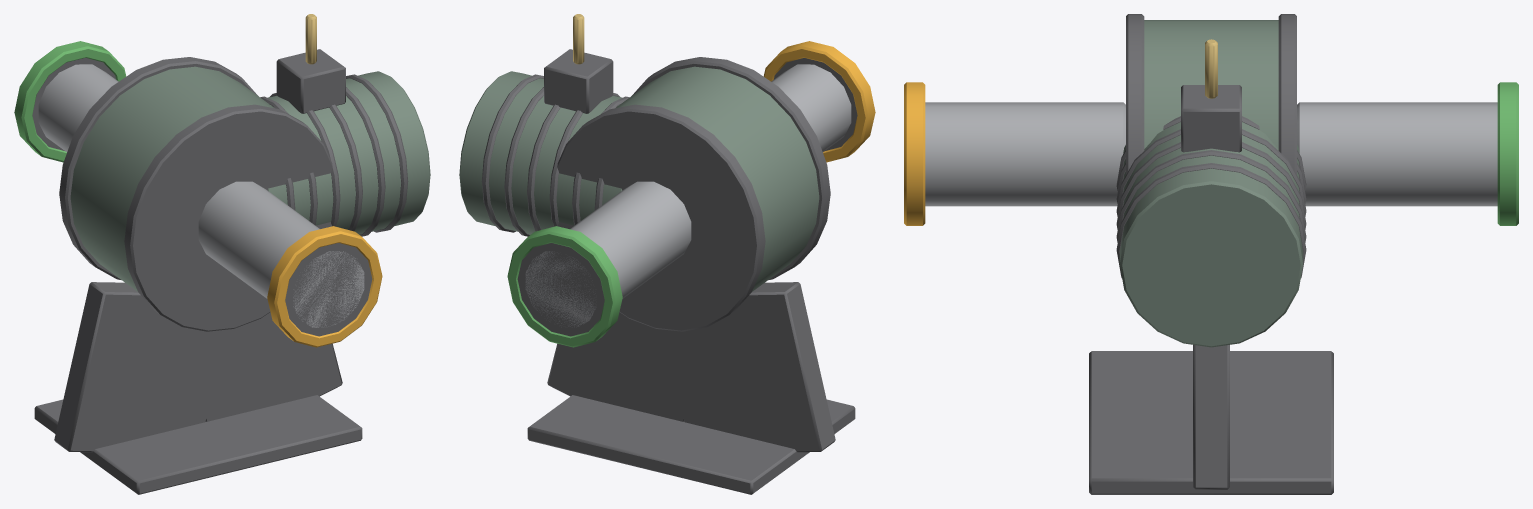
File: feElecPump.fbx
The picture shows the model from 3 angles, left to right: view 1: azimuth 30°, elevation 25°; view 2: azimuth 150°, elevation 25°; view 3: azimuth 270°, elevation 25°; orthographic projection. The views are drawn at different scales.
Parts seen in each view (by area): view 1: feElecPump_Base; view 2: feElecPump_Base; view 3: feElecPump_Base.
Part boxes in pixels (<box>): feElecPump_Base: <box>14,14,430,494</box>; feElecPump_Base: <box>459,14,875,494</box>; feElecPump_Base: <box>904,14,1518,494</box>.
Size of the model in its own units: 0.7346 by 0.8554 by 1.
